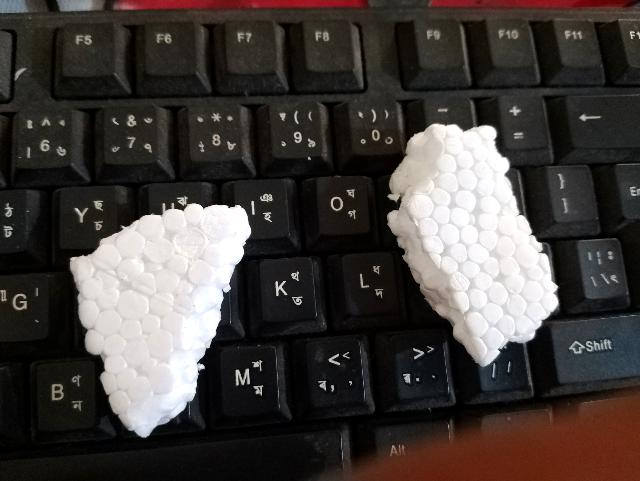cocksheet: (354, 105, 592, 390), (66, 192, 314, 430)
